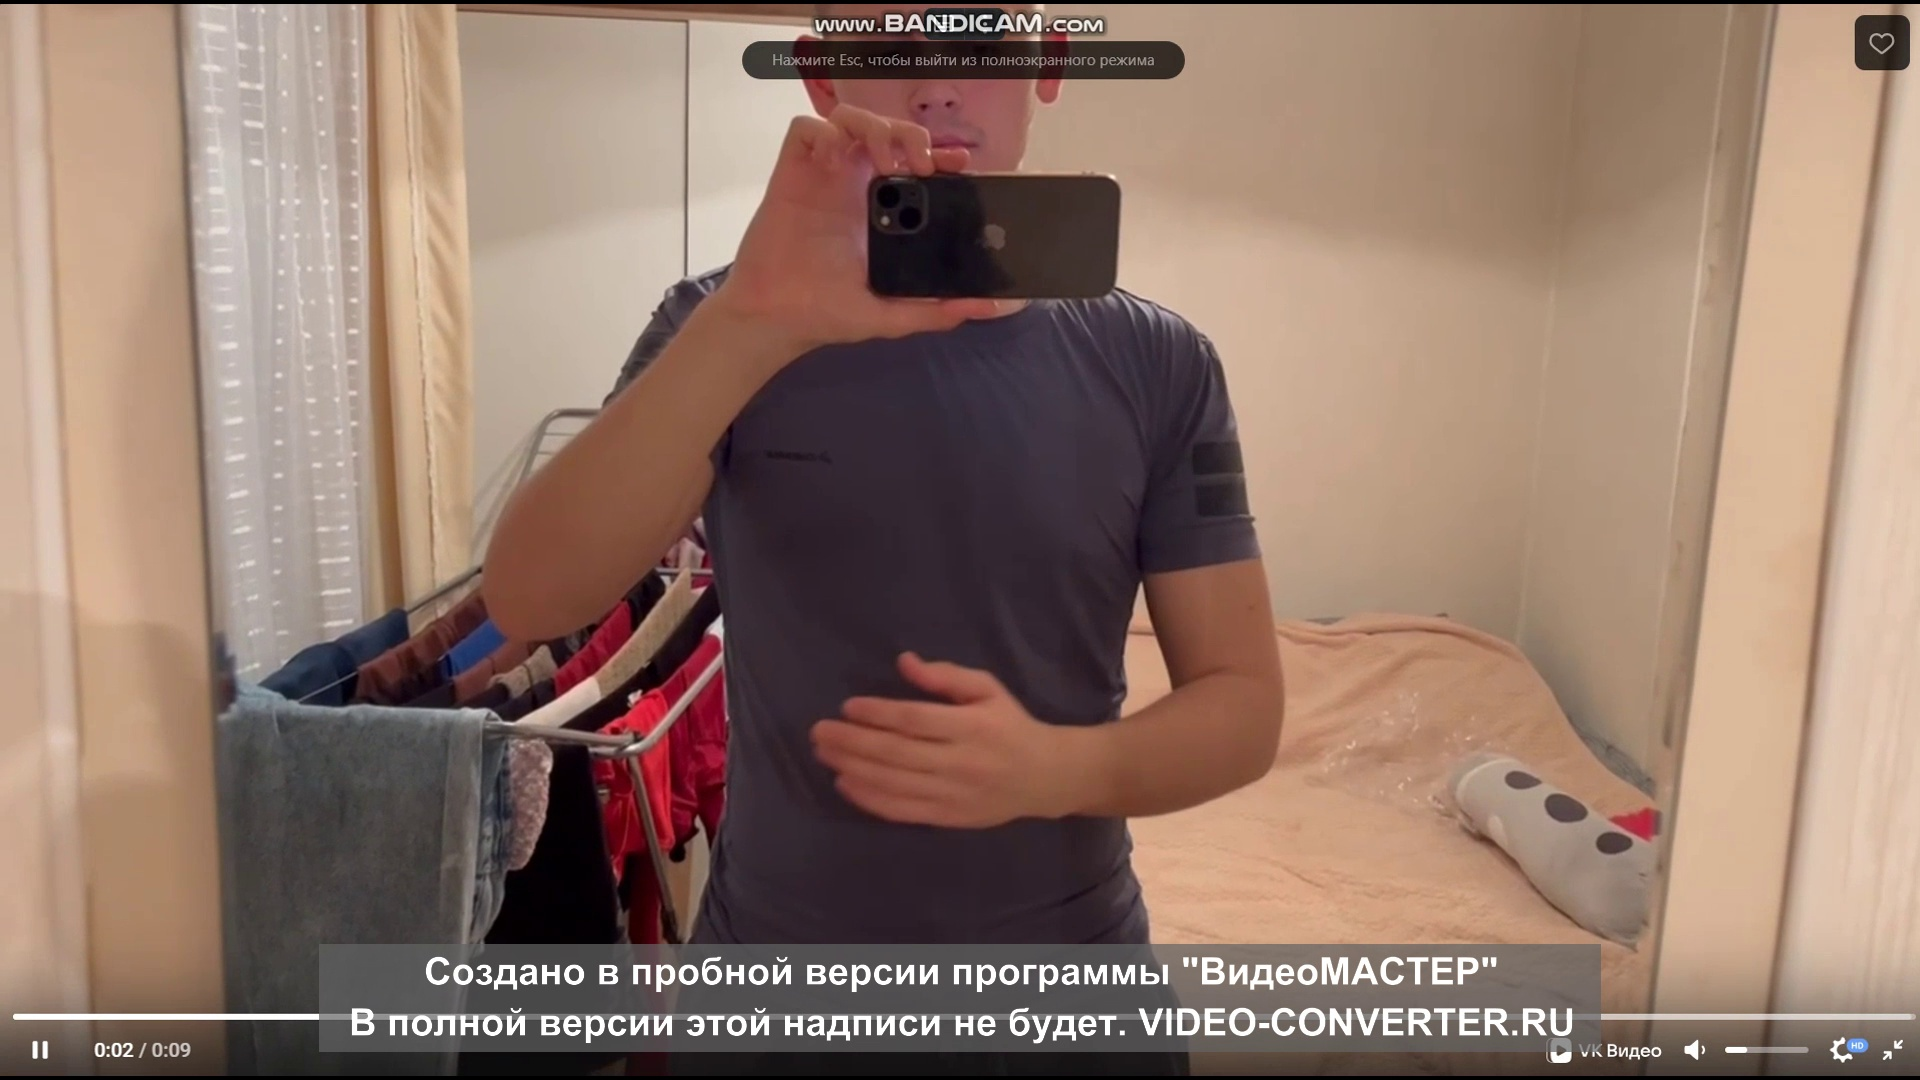Кисть: (808, 651, 1034, 828)
